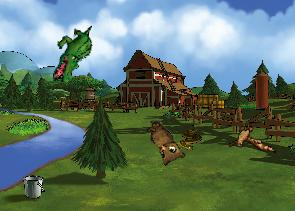crocodile: (51, 22, 94, 85)
eagle: (224, 118, 276, 161)
owl: (136, 119, 189, 171)
